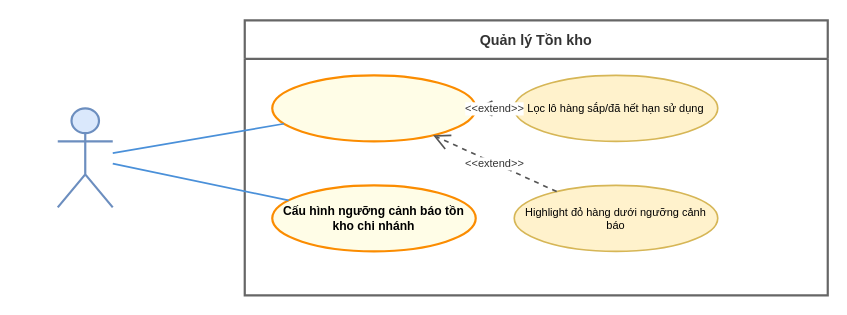
The diagram is 847 pixels wide and 315 high, and some of its shapes have lost their labels. Each missing label, with the box of its shape:
Nhân viên kho (STAFF): (56, 107, 113, 208)
Xem tồn kho chi nhánh (Sắp xếp theo lastUpdated DESC): (271, 74, 476, 142)
